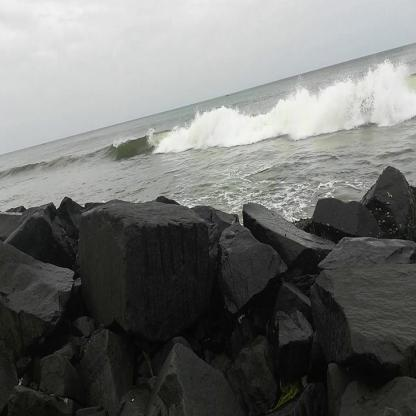other: (280, 70, 408, 137), (158, 102, 275, 144)
